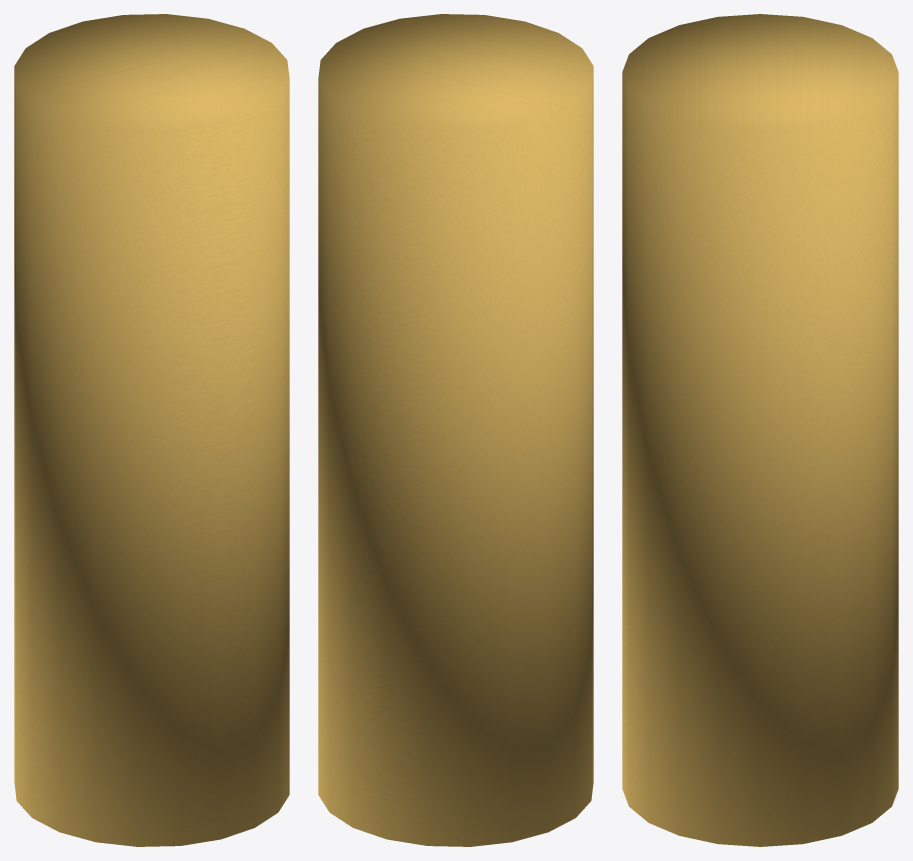
File: 105_L103_ViaRepair_3.obj
The picture shows the model from 3 angles, left to right: view 1: azimuth 30°, elevation 25°; view 2: azimuth 150°, elevation 25°; view 3: azimuth 270°, elevation 25°; orthographic projection.
Visible parts, largest first — view 1: PlatedViaBarrel__PSMAT__Gold_ENIG; view 2: PlatedViaBarrel__PSMAT__Gold_ENIG; view 3: PlatedViaBarrel__PSMAT__Gold_ENIG.
Part boxes in pixels (left/top/right/bottom): PlatedViaBarrel__PSMAT__Gold_ENIG: left=14, top=14, right=289, bottom=846; PlatedViaBarrel__PSMAT__Gold_ENIG: left=318, top=14, right=593, bottom=846; PlatedViaBarrel__PSMAT__Gold_ENIG: left=622, top=14, right=898, bottom=846.
Bounding box in the file's own units: 0.0014 × 0.004 × 0.0014.
